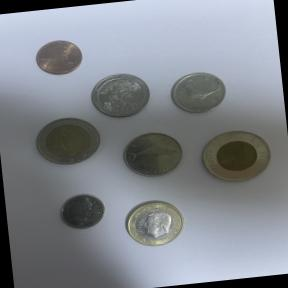coin: (194, 121, 282, 192), (113, 190, 198, 256), (28, 112, 106, 172), (113, 125, 191, 182), (84, 68, 156, 124), (26, 28, 95, 83), (51, 187, 114, 238)
